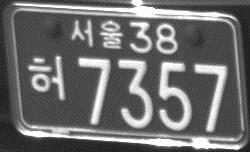3: (116, 58, 154, 128), (127, 20, 153, 55)
5: (157, 59, 194, 133)
7: (75, 55, 113, 126), (192, 62, 229, 132)
8: (154, 22, 181, 56)
서울_O: (70, 18, 124, 51)
허: (27, 54, 66, 103)
